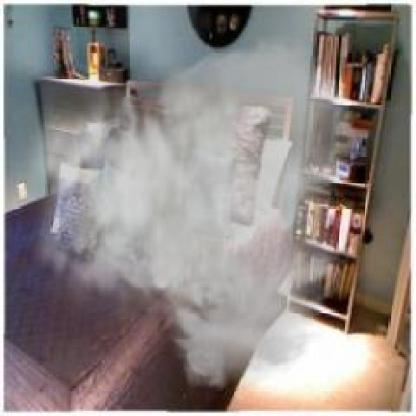Smoke: (11, 31, 361, 394)
